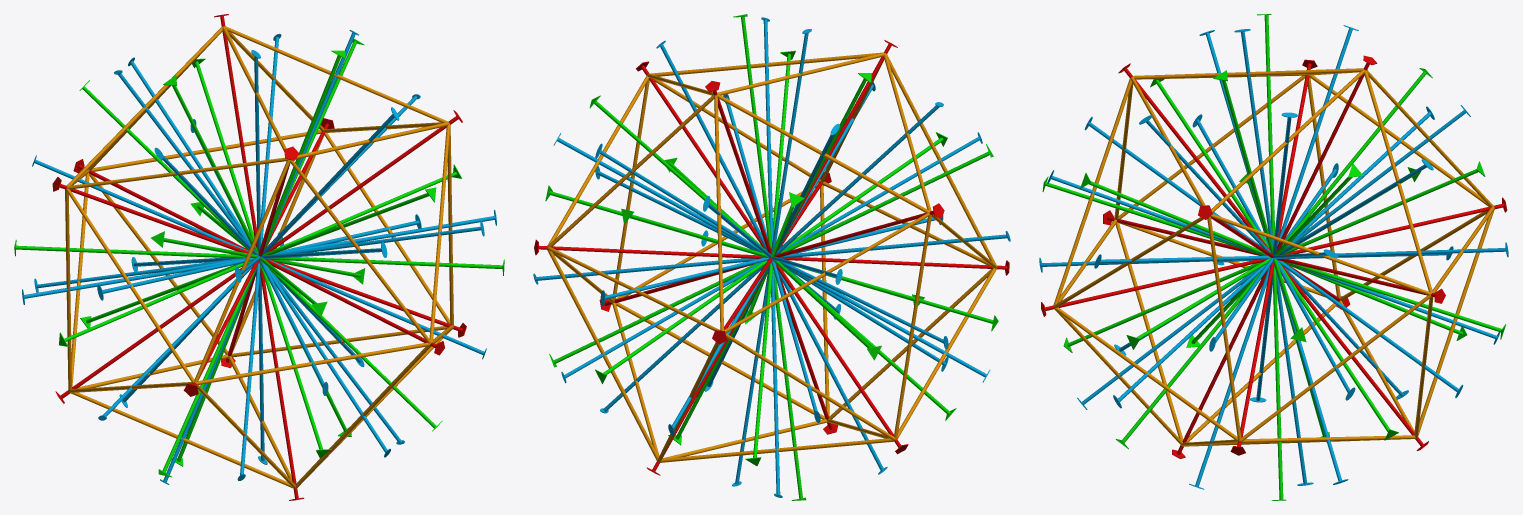
Rendered from 1OHF_axis.glb.
3 renders of one model, left to right at view 1: azimuth 30°, elevation 25°; view 2: azimuth 150°, elevation 25°; view 3: azimuth 270°, elevation 25°, orthographic.
Bounding box in the file's own units: 508 × 507 × 493.
